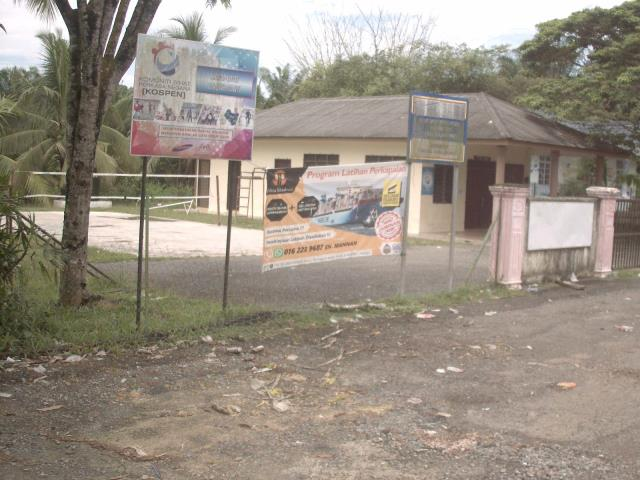ads_sign: (119, 29, 266, 171), (258, 150, 413, 272), (401, 86, 473, 170)
